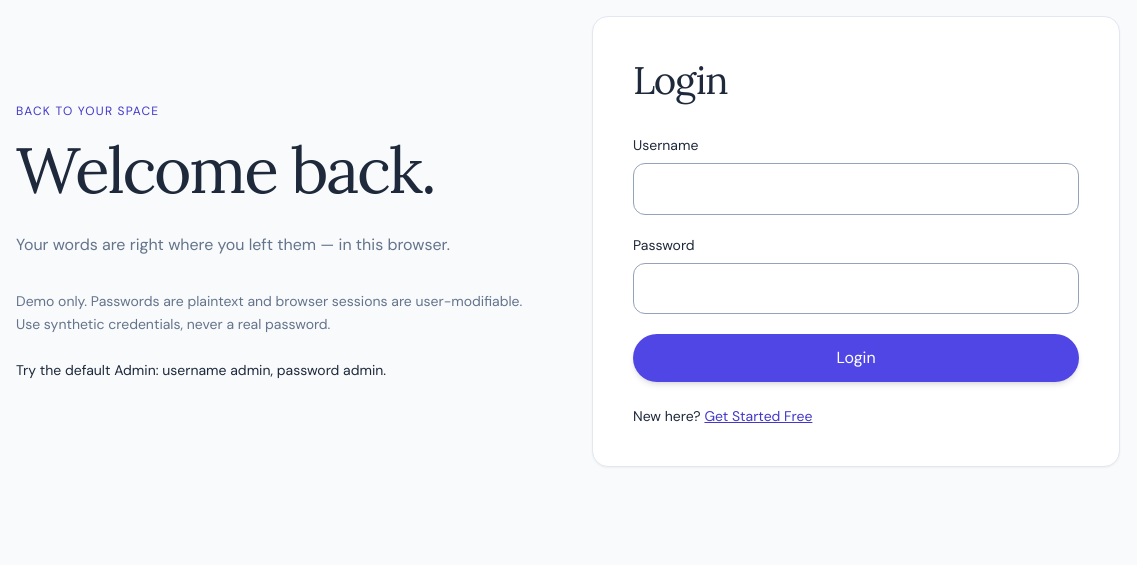
Test case: keeps incorrect credentials on form with exact error
In the field labelled "Username": (856, 189) [633,163,1079,215], type "admin"
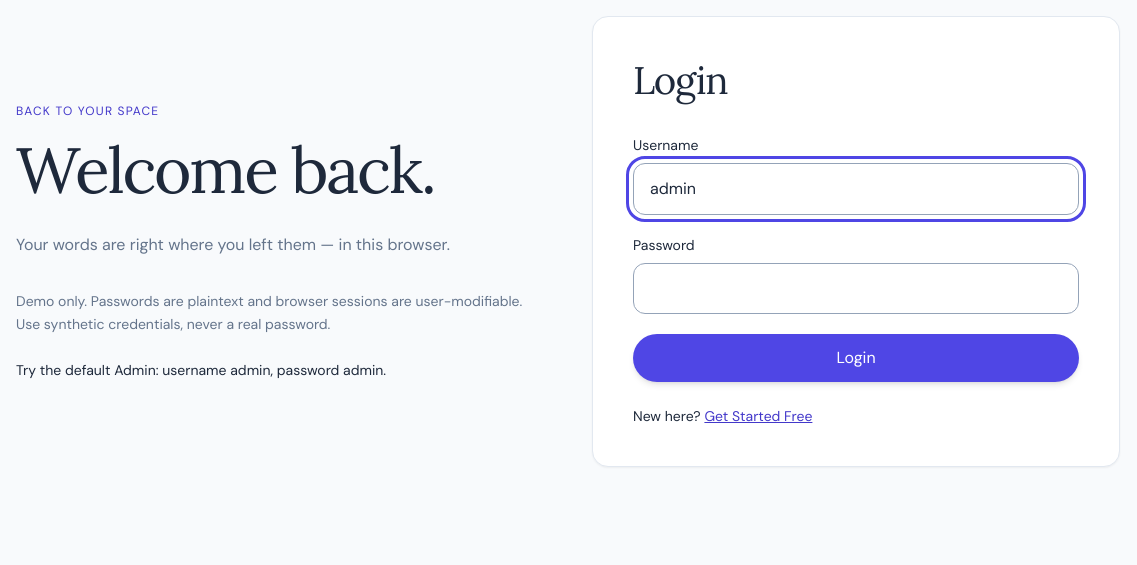
In the password field labelled "Password": (856, 288) [633,263,1079,314], type "incorrect"
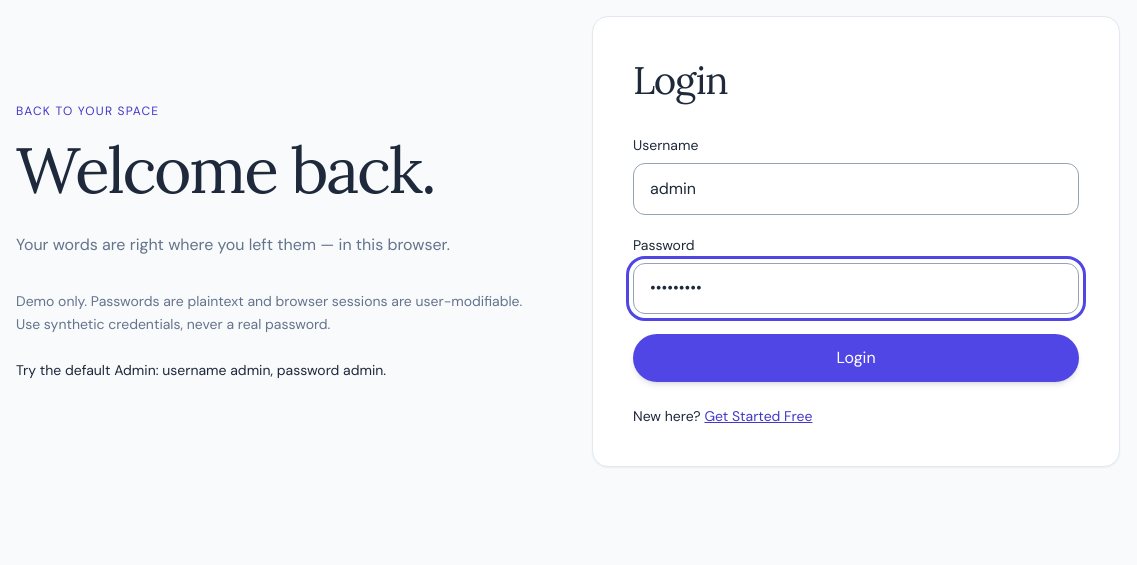
Click the button "Login": (856, 358) [633,334,1079,382]
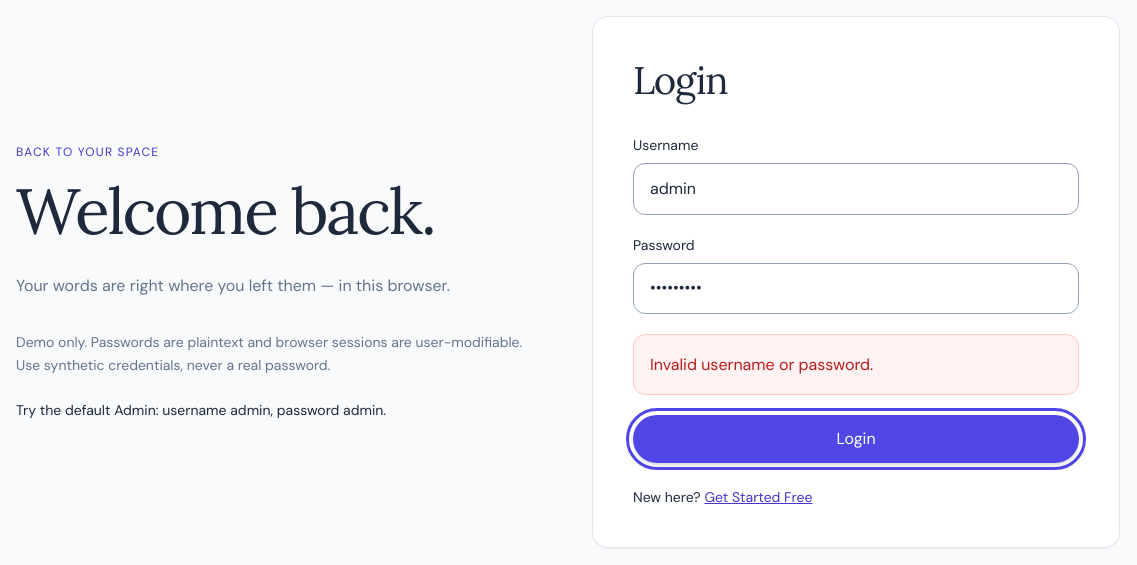
Expected: the text "Invalid username or password." is shown, [633,334,1079,396]
